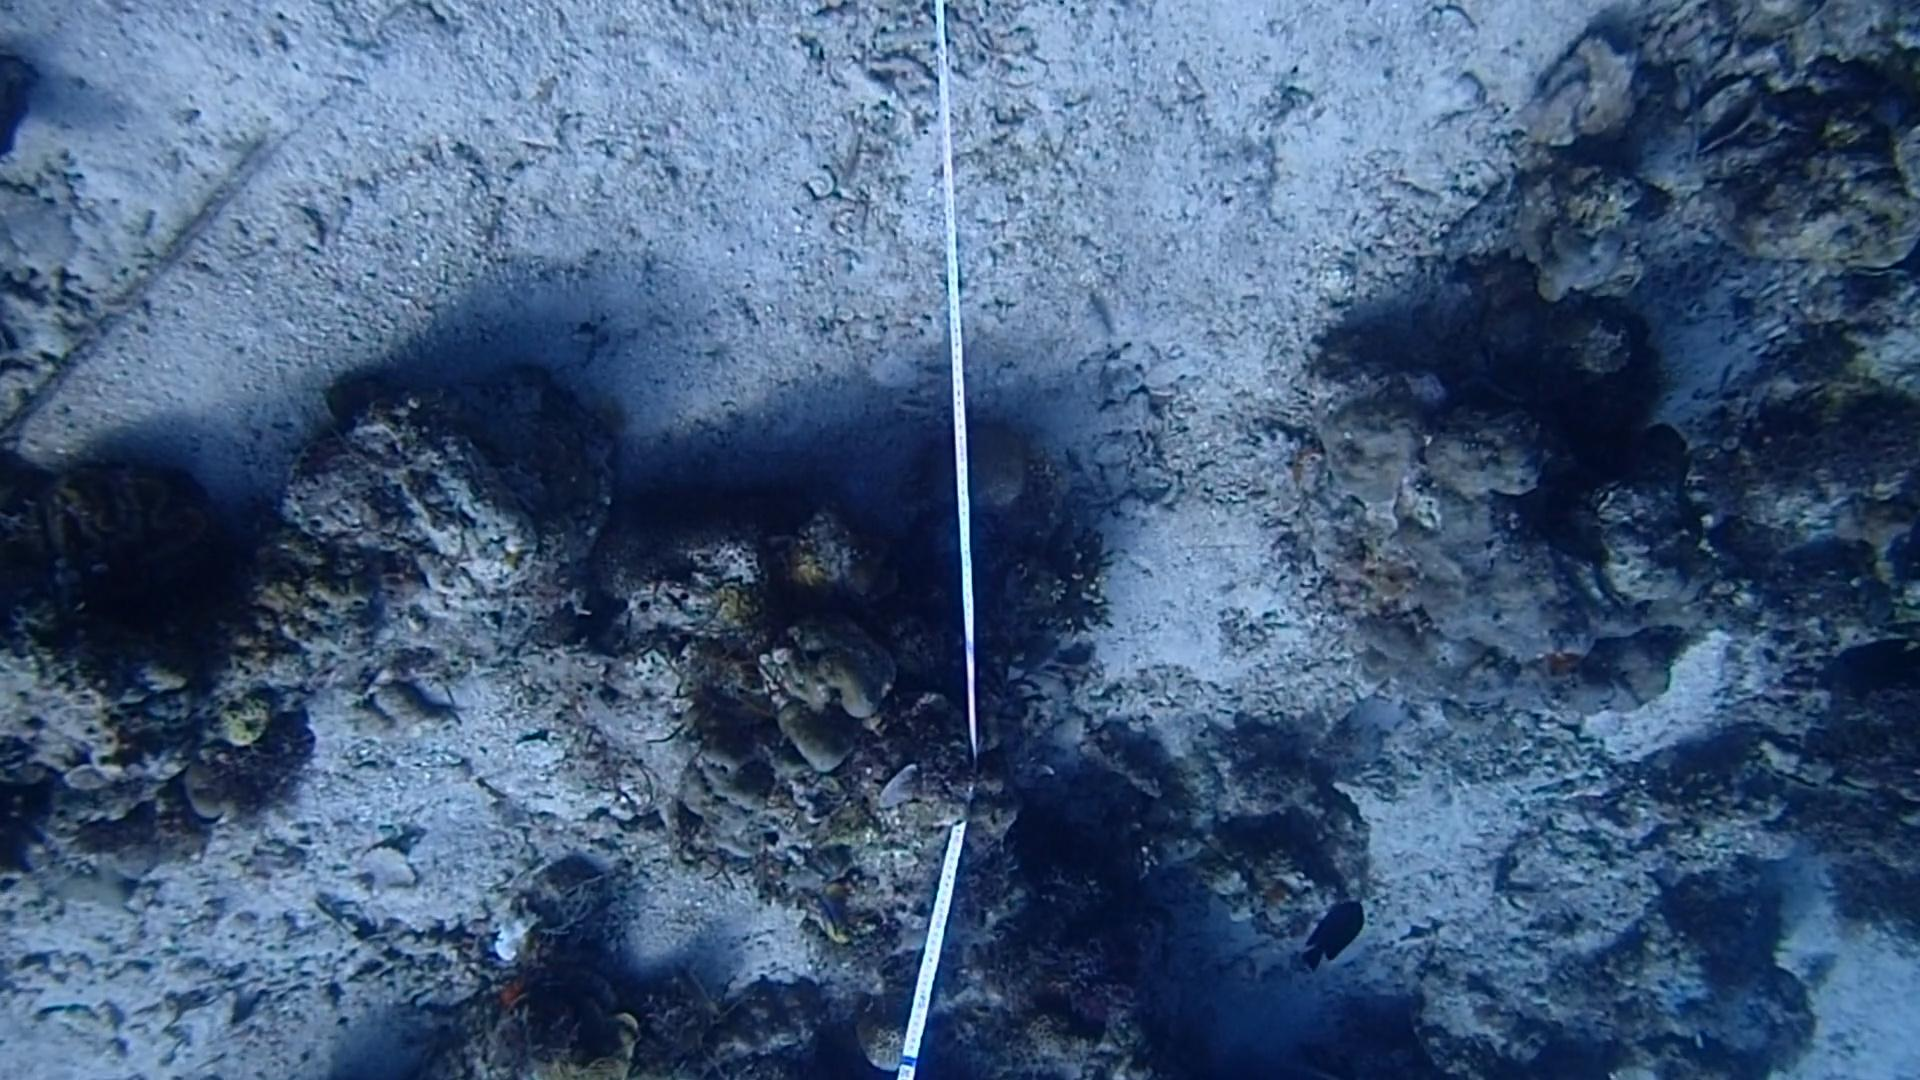Dark Fish: (1834, 626, 1920, 712), (1299, 891, 1369, 978)
Light Fish: (658, 953, 732, 1026)
